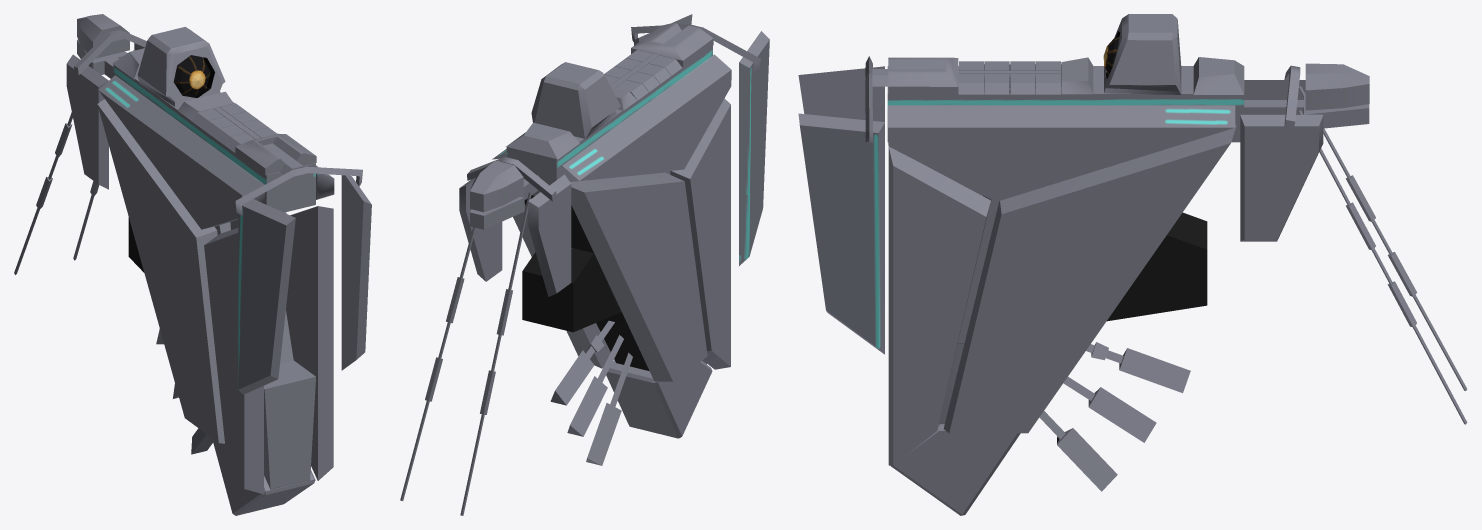
File: BattleshipEnemy_Model.obj
3 views of the same model, side by side, from view 1: azimuth 30°, elevation 25°; view 2: azimuth 150°, elevation 25°; view 3: azimuth 270°, elevation 25° (orthographic). The views are drawn at different scales.
Parts seen in each view (by area): view 1: BattleshipEnemy_Mesh BattleshipEnemy_Mesh_grp; view 2: BattleshipEnemy_Mesh BattleshipEnemy_Mesh_grp; view 3: BattleshipEnemy_Mesh BattleshipEnemy_Mesh_grp.
Boxes of the visible parts, x1=… form: BattleshipEnemy_Mesh BattleshipEnemy_Mesh_grp: x1=14, y1=14, x2=371, y2=515; BattleshipEnemy_Mesh BattleshipEnemy_Mesh_grp: x1=400, y1=14, x2=769, y2=515; BattleshipEnemy_Mesh BattleshipEnemy_Mesh_grp: x1=798, y1=14, x2=1467, y2=515.
Bounding box in the file's own units: 141 × 437 × 553.
1 material, 1 textured.
